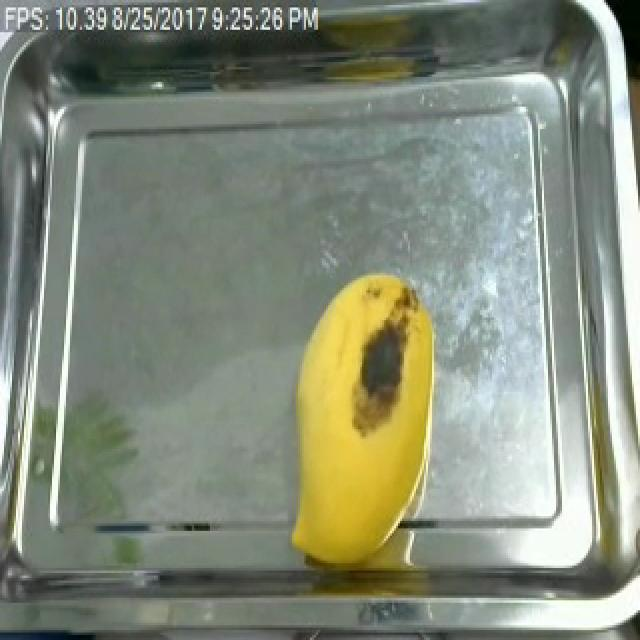fruit: (276, 263, 448, 578)
